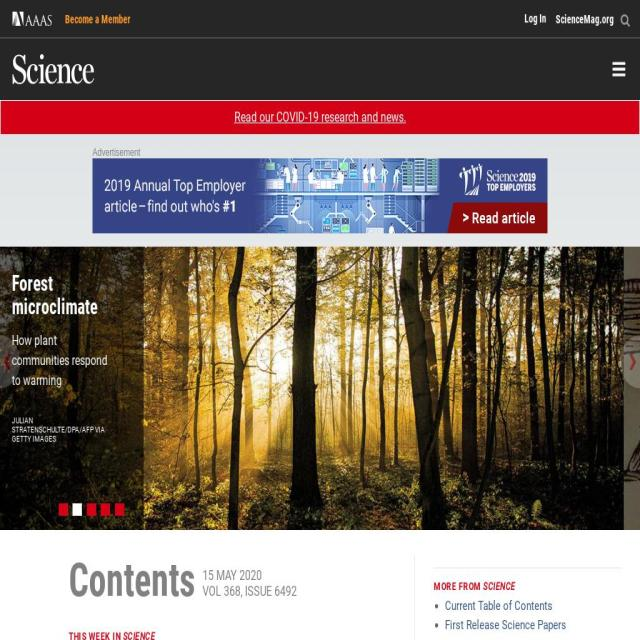button: (0, 247, 640, 530), (13, 54, 95, 84), (65, 13, 131, 26), (556, 12, 614, 26), (621, 16, 635, 27)
heading: (69, 555, 195, 606), (28, 271, 114, 319), (434, 581, 483, 592), (69, 631, 123, 640), (483, 581, 516, 592), (123, 631, 155, 640)
iframe: (92, 158, 548, 234)
image: (0, 247, 640, 530), (13, 54, 95, 84), (12, 12, 52, 26), (612, 59, 628, 79), (620, 13, 630, 27), (72, 502, 82, 516), (86, 502, 96, 516), (100, 502, 110, 516), (114, 502, 124, 516)
link: (28, 332, 124, 388), (234, 109, 406, 125), (28, 416, 121, 443), (445, 598, 553, 614), (445, 618, 567, 632), (524, 13, 546, 25), (445, 636, 477, 640)
text: (92, 148, 548, 158), (0, 636, 640, 640), (202, 583, 297, 599), (202, 568, 262, 584), (2, 335, 12, 383), (627, 335, 637, 383)
